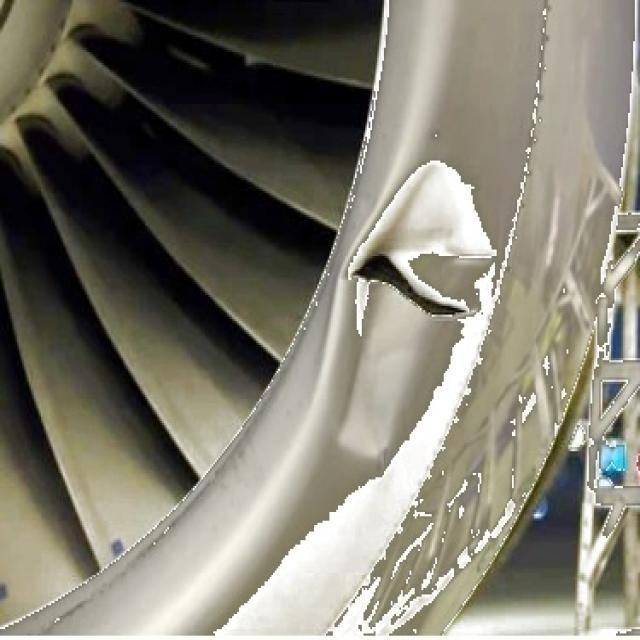crack: (353, 253, 471, 318)
